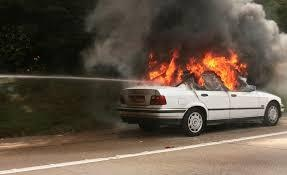fire: (145, 47, 248, 91)
